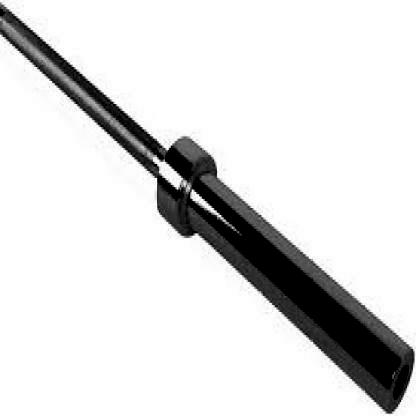Barbell: (373, 338, 416, 414)
